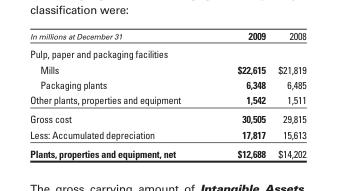table: (29, 28, 305, 159)
table column: (29, 28, 208, 159), (208, 28, 271, 159), (271, 28, 305, 159)
table column header: (29, 28, 305, 44)
table projected row header: (29, 44, 305, 61)
table row: (29, 108, 305, 126), (29, 44, 305, 61), (29, 91, 305, 108), (29, 126, 305, 143), (29, 28, 305, 44), (29, 143, 305, 159), (29, 61, 305, 76), (29, 76, 305, 91)
